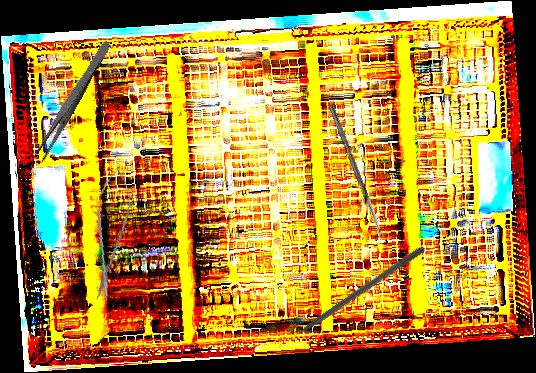Dressing Forceps: (31, 37, 113, 165)
Micro Scissor: (85, 167, 135, 303)
Pusher: (275, 243, 427, 350)
Surgical Spoon: (328, 105, 385, 241)
